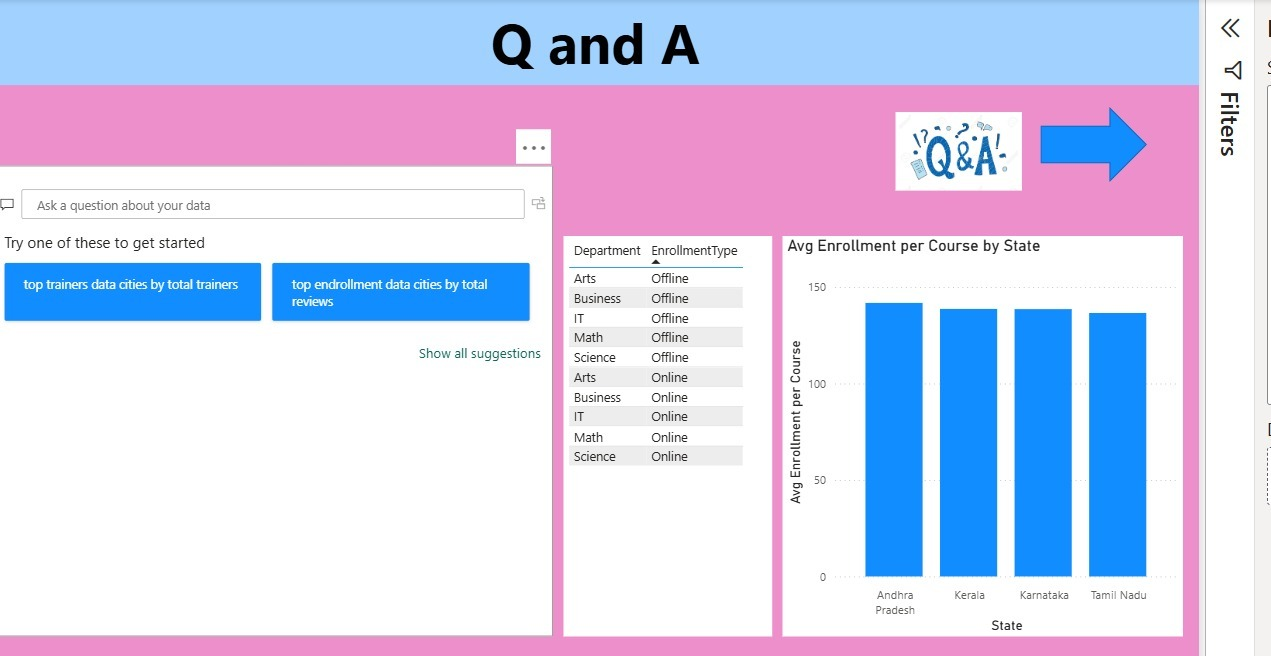

What the dashboard file says about the page in this screenshot:
{"tool":"powerbi","page":{"name":"Page 3","canvas":[1280,720],"ordinal":2},"visuals":[{"type":"textbox","box":[0,0,1280,91.1],"z":0},{"type":"tableEx","fields":{"Values":["Endrollment data.Department","Endrollment data.EnrollmentType"]},"box":[606,251.3,221.1,424.7],"z":1000},{"type":"columnChart","fields":{"Category":["Endrollment data.State"],"Y":["measure table.Avg Enrollment per Course"]},"box":[838.3,251.3,424.7,424.7],"z":2000},{"type":"image","box":[952.8,114.5,144.7,93.8],"z":3000},{"type":"shape","box":[1111.8,114.5,112.9,79.5],"z":4000},{"type":"qnaVisual","box":[0,176.6,594.9,499.5],"z":5000}]}

Visuals, with their boxes on the page's 1280x720 design canvas (x1, y1, x2, y2). These are canvas units, not pixel positions in the 1271x656 screenshot, which may show the page scaled, cropped or inside an application window:
textbox: [0,0,1280,91]
tableEx - Endrollment data.Department x Endrollment data.EnrollmentType: [606,251,827,676]
columnChart - Endrollment data.State x measure table.Avg Enrollment per Course: [838,251,1263,676]
image: [953,114,1098,208]
shape: [1112,114,1225,194]
qnaVisual: [0,177,595,676]
